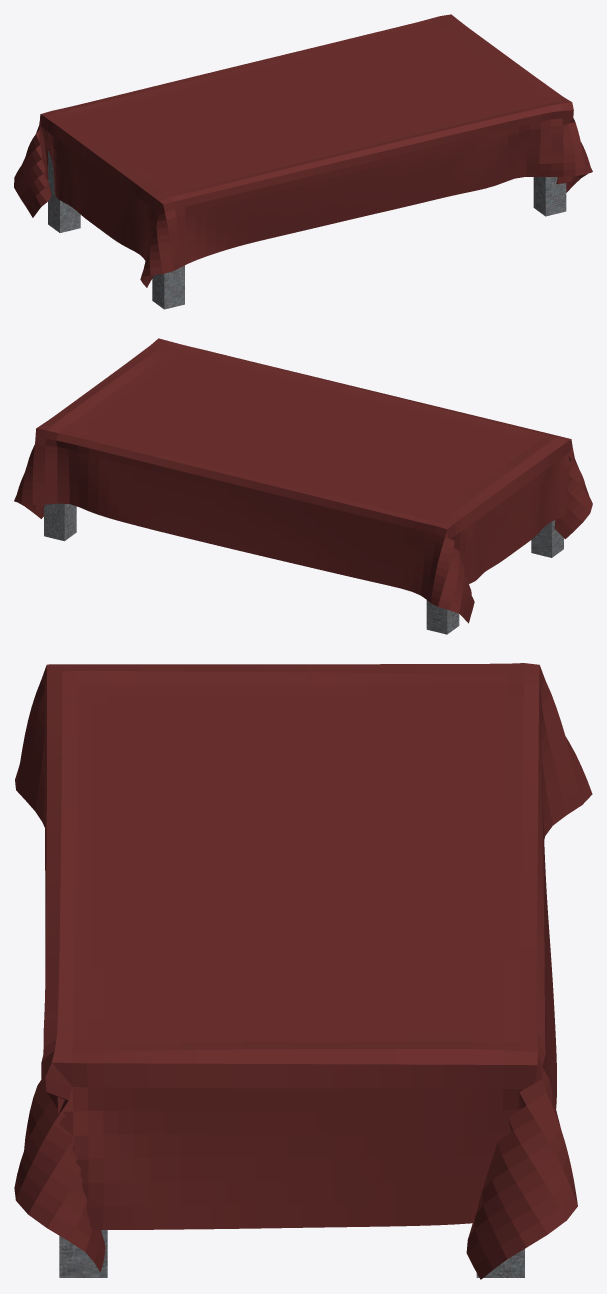
The model's file is mesacarpa.fbx.
3 renders of one model, top to bottom at view 1: azimuth 30°, elevation 25°; view 2: azimuth 150°, elevation 25°; view 3: azimuth 270°, elevation 25°, orthographic. The views are drawn at different scales.
Parts seen in each view (by area): view 1: Plane, Cube.002, Cube.003, Cube; view 2: Plane, Cube.001, Cube.003, Cube; view 3: Plane, Cube.002.
Part boxes in pixels (x1,y1,x2,y2): Plane: (14,14,592,287); Cube.002: (533,177,566,216); Cube.003: (152,265,184,309); Cube: (48,151,80,232); Plane: (14,338,592,623); Cube.001: (44,503,76,541); Cube.003: (531,520,563,557); Cube: (426,600,459,634); Plane: (14,663,592,1279); Cube.002: (59,1230,107,1277).
Size of the model in its own units: 449 by 106 by 249.
